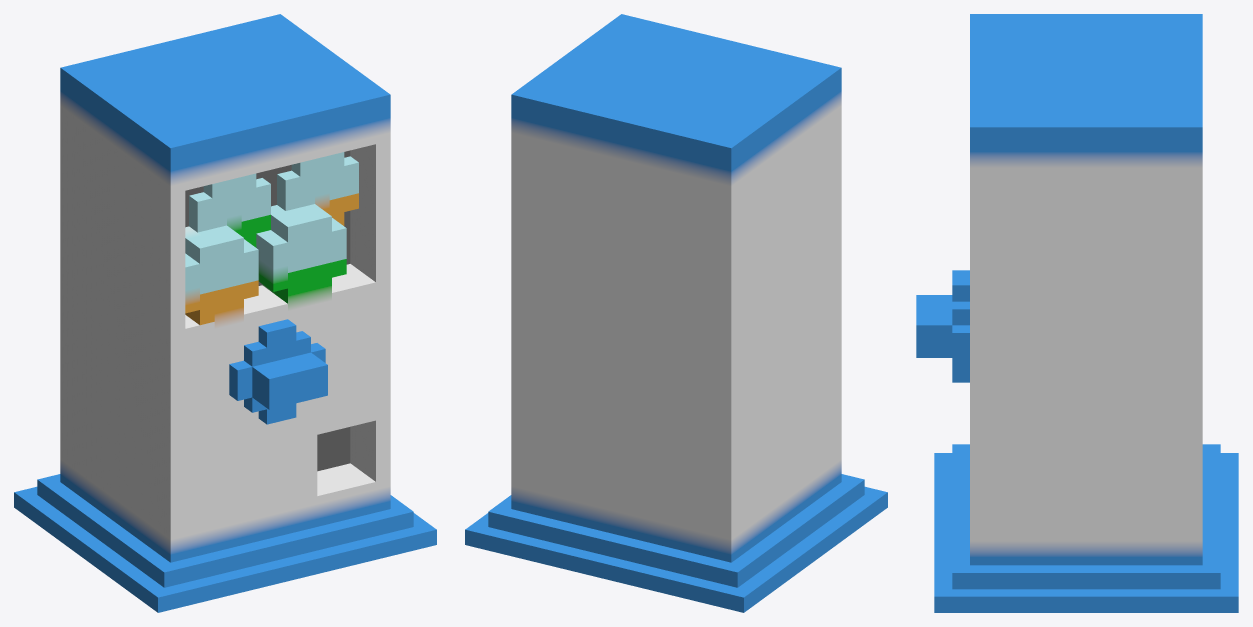
Rendered from Gotchapon.dae.
The picture shows the model from 3 angles, left to right: view 1: azimuth 30°, elevation 25°; view 2: azimuth 150°, elevation 25°; view 3: azimuth 270°, elevation 25°; orthographic projection. The views are drawn at different scales.
Visible parts, largest first — view 1: Week05_Env01; view 2: Week05_Env01; view 3: Week05_Env01.
Boxes of the visible parts, box(x1,y1,x2,y2) form: Week05_Env01: box(14, 14, 436, 612); Week05_Env01: box(465, 14, 887, 612); Week05_Env01: box(916, 14, 1238, 612).
Size of the model in its own units: 19 by 29 by 18.
1 material, 1 textured.
